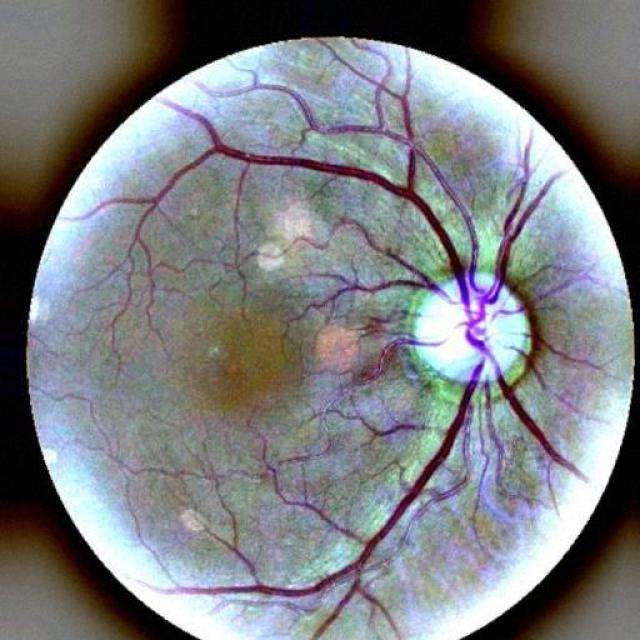Nerves: (90, 60, 582, 596), (359, 334, 449, 381)
Optic Disk: (408, 272, 530, 384)
